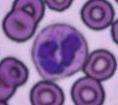N: (31, 24, 88, 79)
